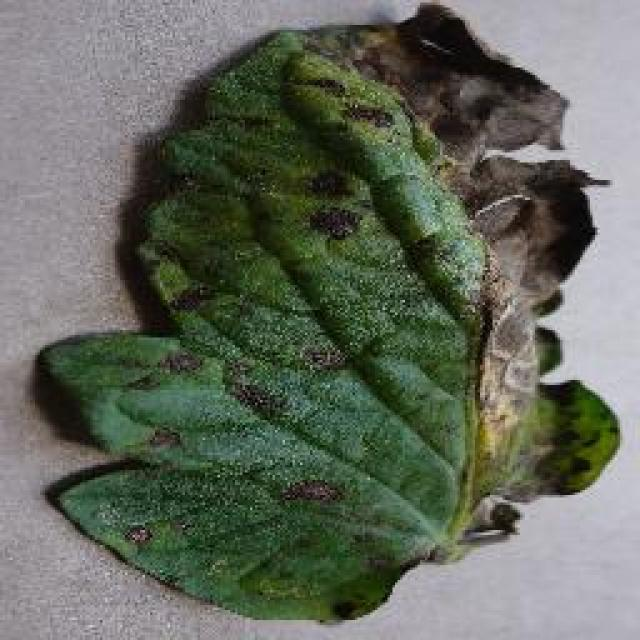Tomato_Early_Blight: (339, 4, 618, 569)
